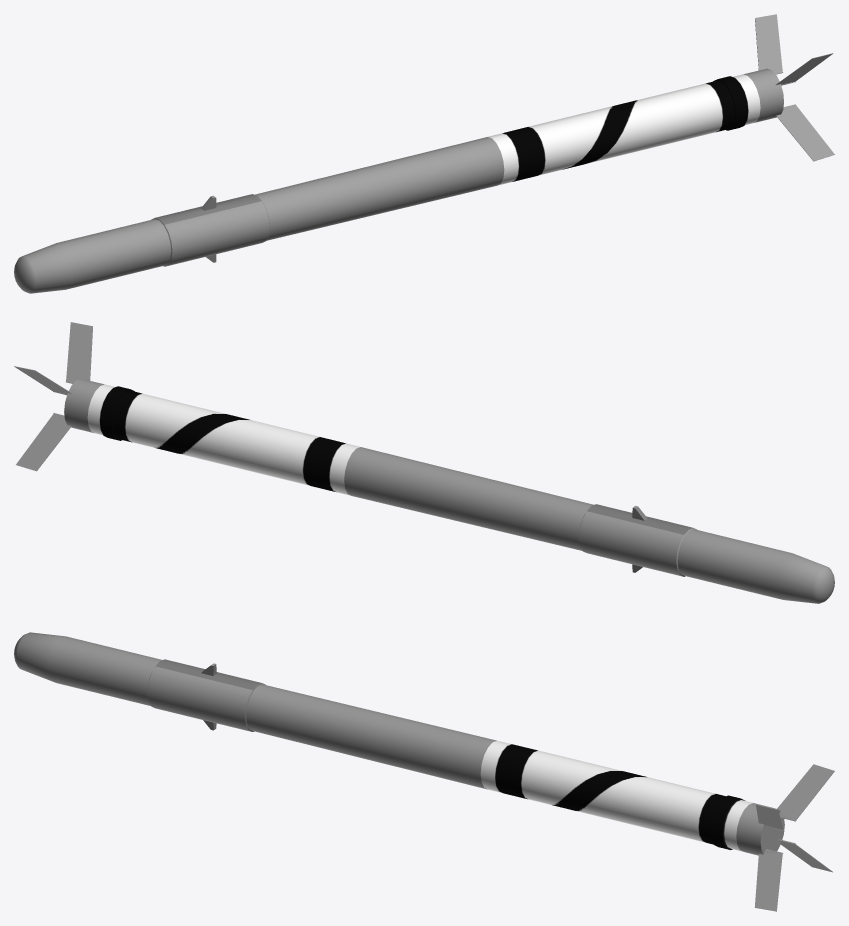
File: Missile_9_Remake.fbx
The picture shows the model from 3 angles, top to bottom: view 1: azimuth 30°, elevation 25°; view 2: azimuth 150°, elevation 25°; view 3: azimuth 330°, elevation 25°; orthographic projection.
Parts seen in each view (by area): view 1: Cylinder_1, Cylinder; view 2: Cylinder_1, Cylinder; view 3: Cylinder_1, Cylinder.
Boxes of the visible parts, bbox=[...] form: Cylinder_1: bbox=[14, 14, 834, 293]; Cylinder: bbox=[488, 74, 760, 185]; Cylinder_1: bbox=[14, 322, 834, 603]; Cylinder: bbox=[87, 384, 359, 495]; Cylinder_1: bbox=[14, 632, 834, 911]; Cylinder: bbox=[480, 740, 752, 851].
Bounding box in the file's own units: 1.38 × 0.1746 × 0.1795.
